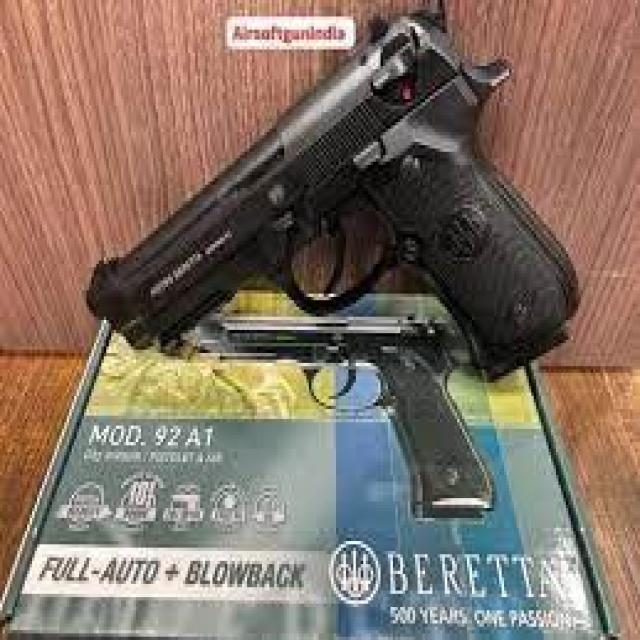gun: (89, 16, 581, 383)
